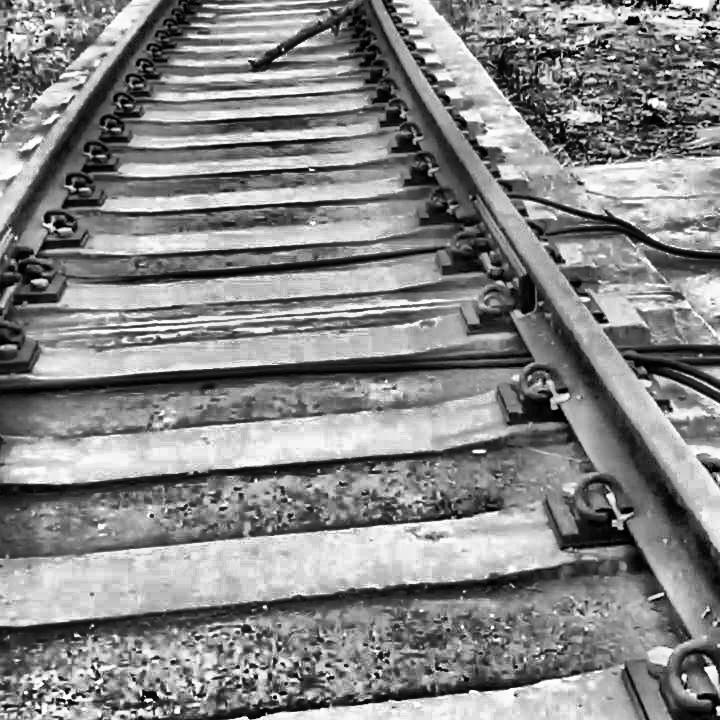Trash: (224, 0, 382, 78)
